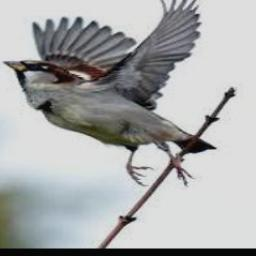Sparrow: (3, 0, 216, 185)
